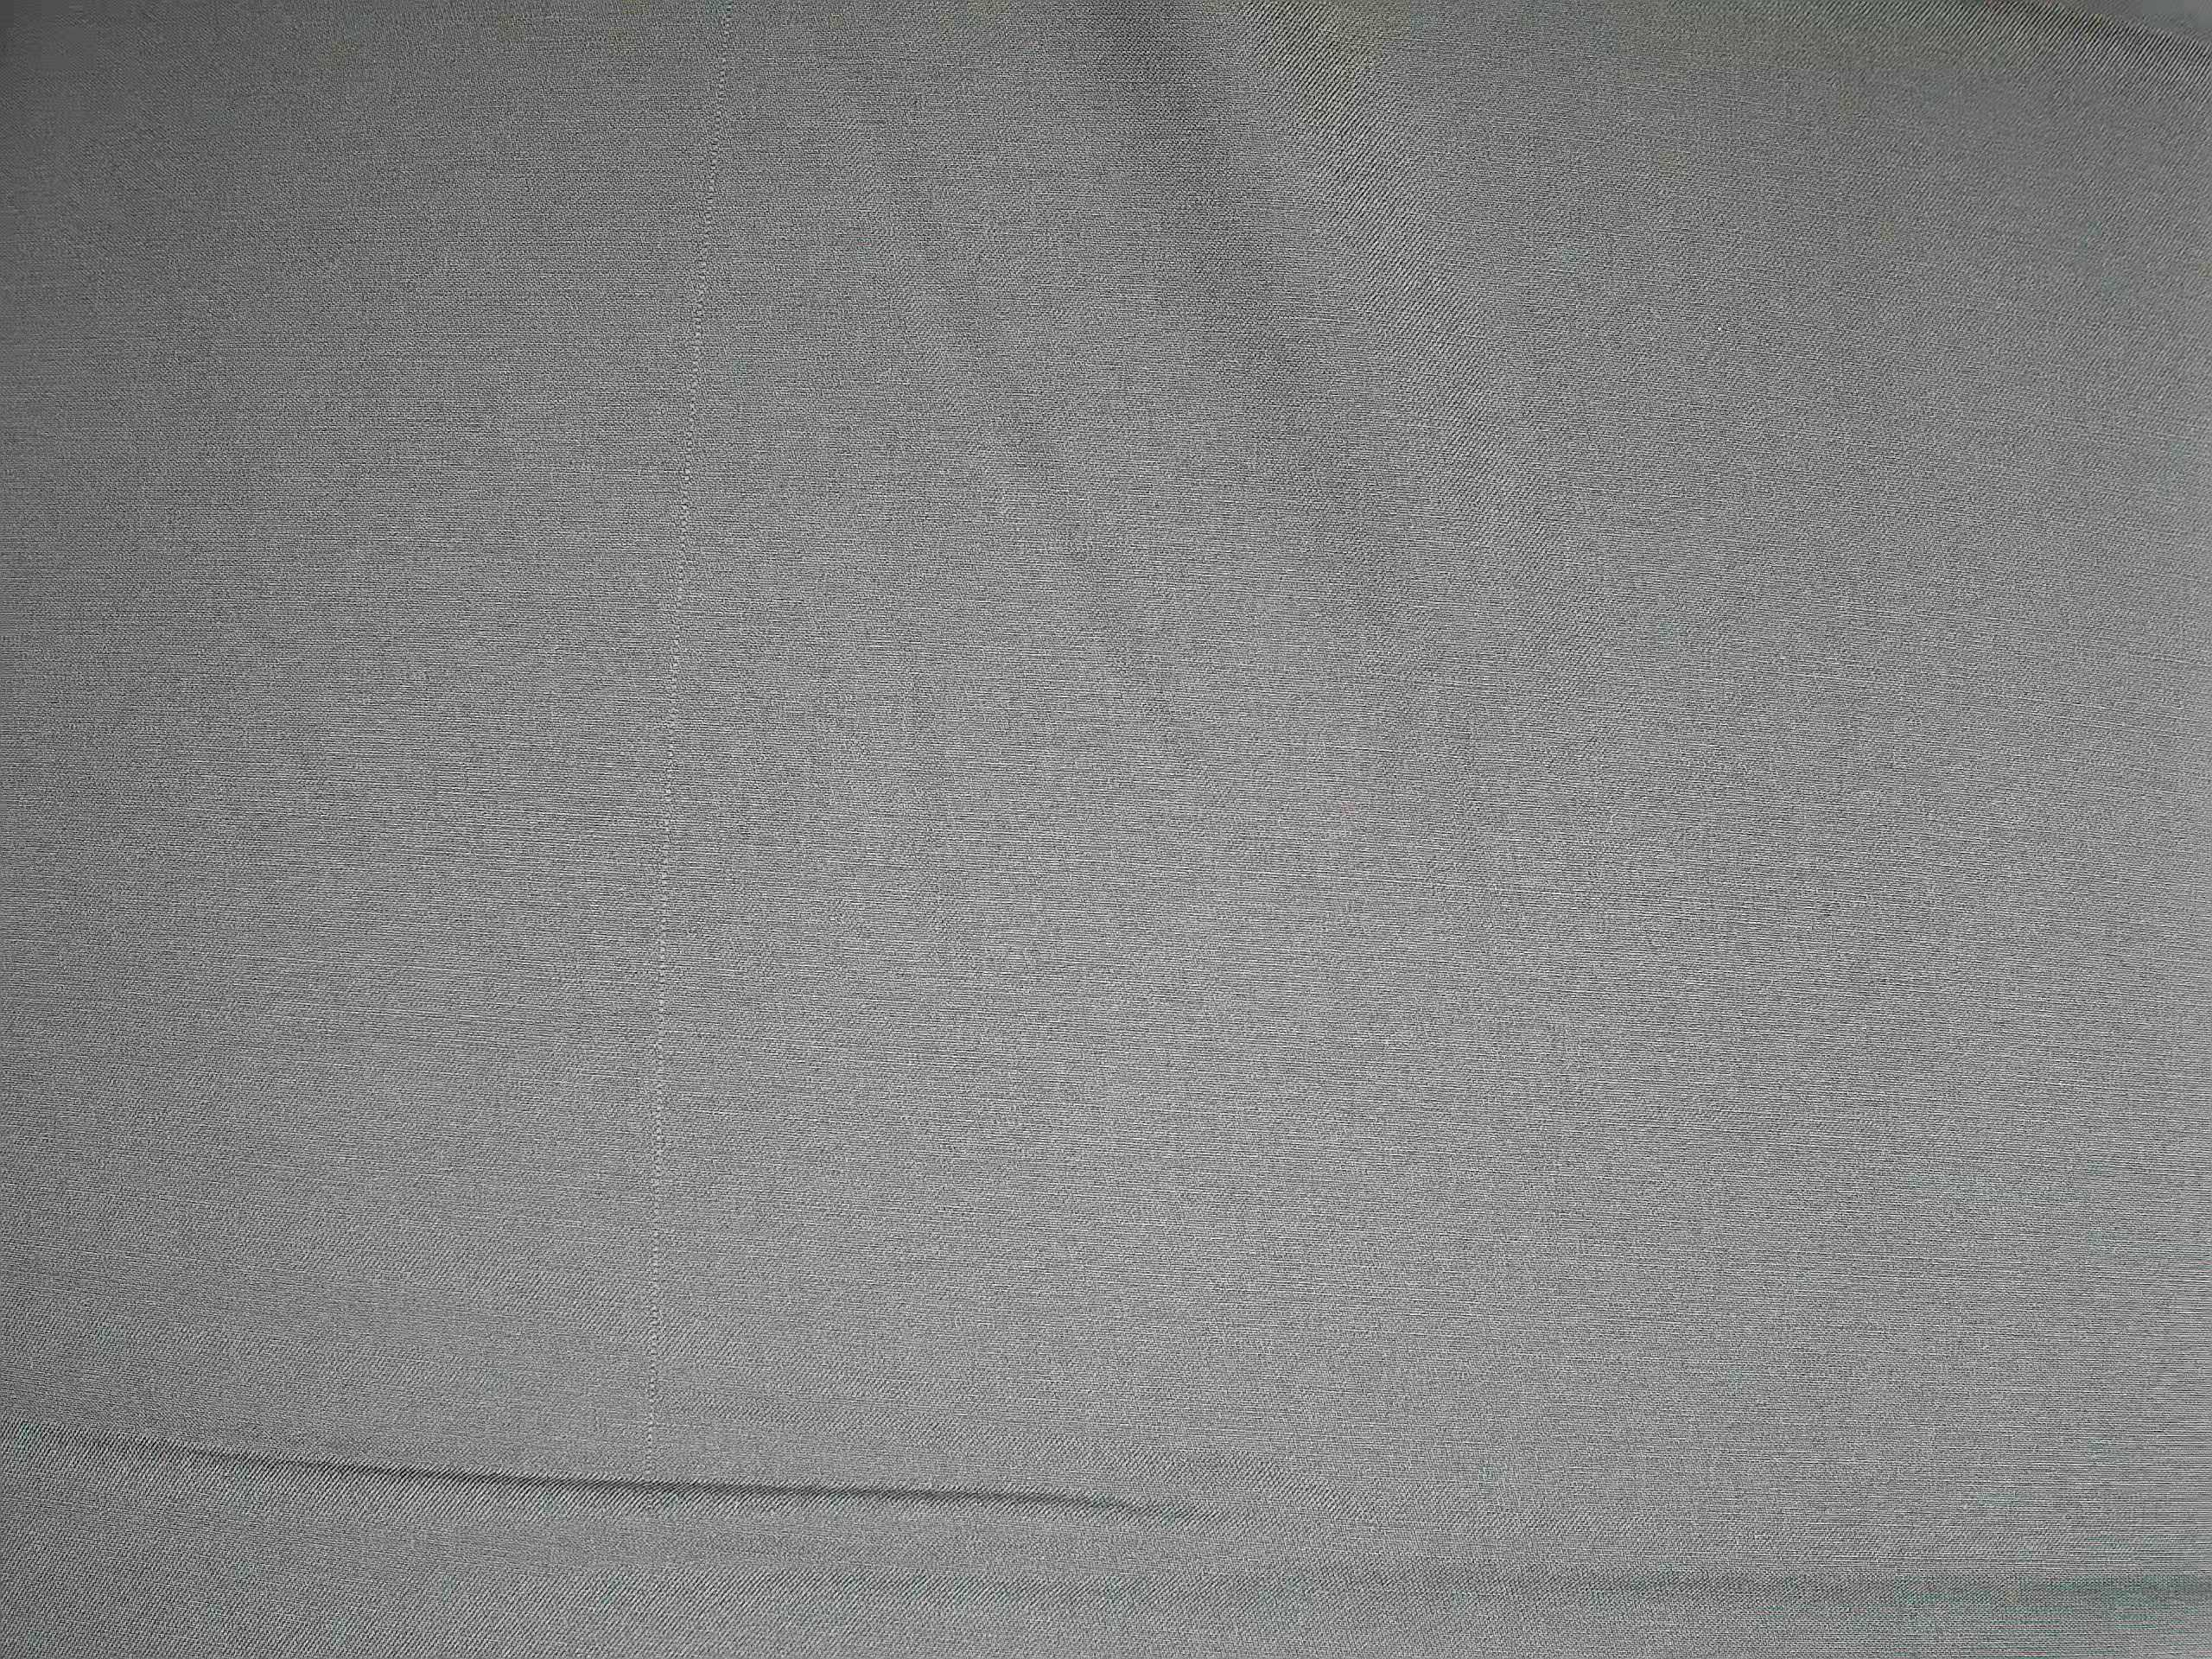lacking-warp: (634, 14, 765, 1544)
